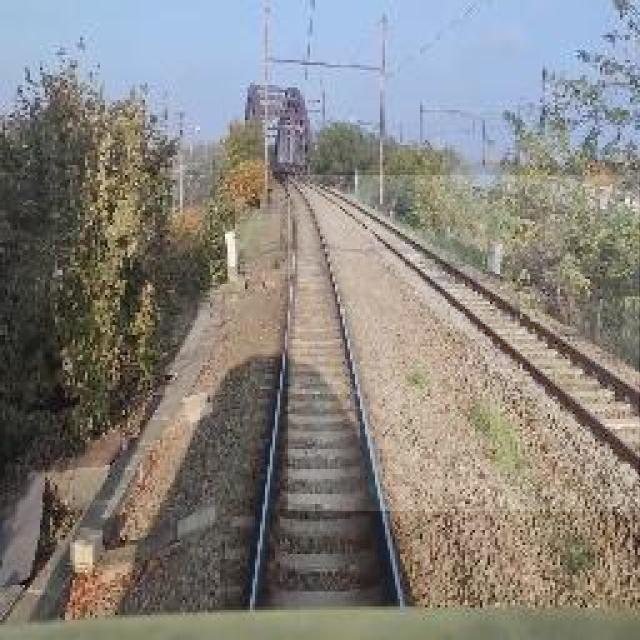rail: (290, 177, 640, 512), (222, 174, 426, 610)
